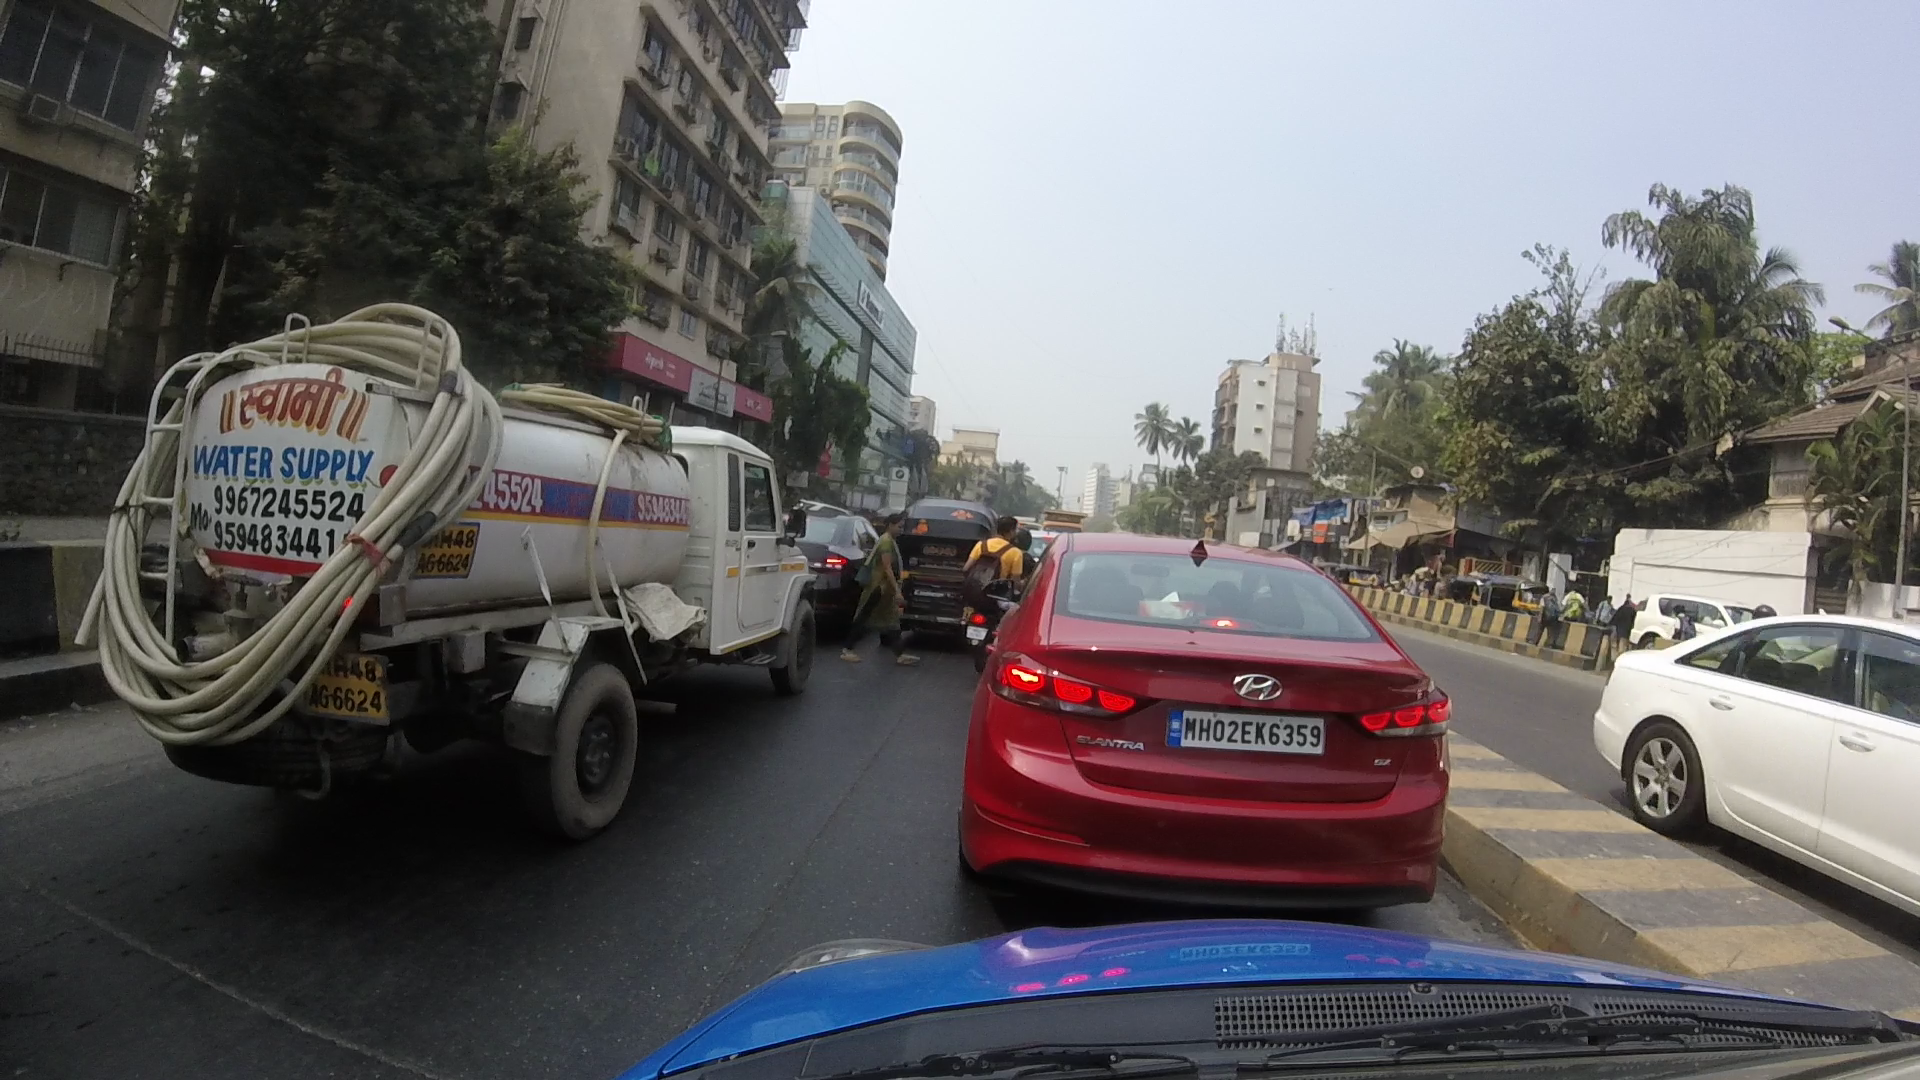bike/scooter: (955, 513, 1015, 657)
car: (969, 530, 1431, 916), (1572, 589, 1920, 913)
truck: (99, 307, 833, 829)
